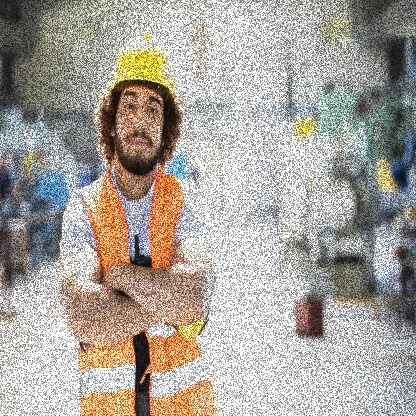vest: (67, 164, 221, 416)
yellow: (105, 27, 182, 104)
